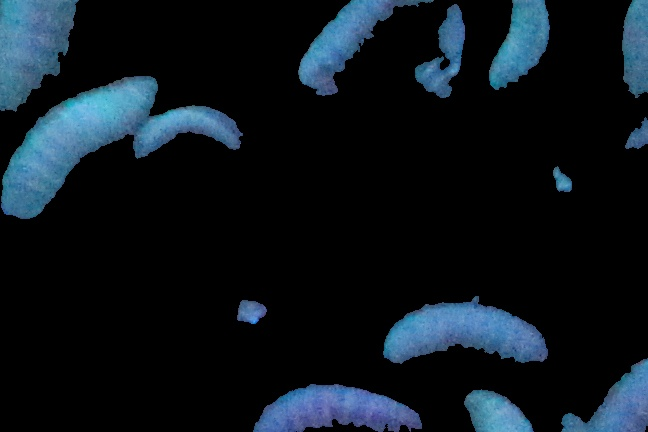larvae: (1, 74, 155, 216), (378, 301, 560, 379), (299, 1, 421, 95), (243, 382, 431, 432), (1, 1, 80, 117), (136, 105, 251, 163), (491, 1, 551, 96)
